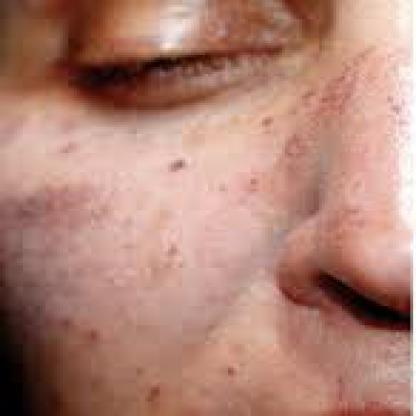darkspot: (42, 129, 233, 414), (311, 48, 413, 253)
